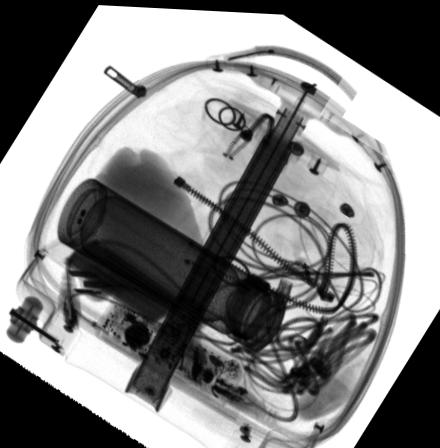Powerbank: (39, 227, 209, 350)
